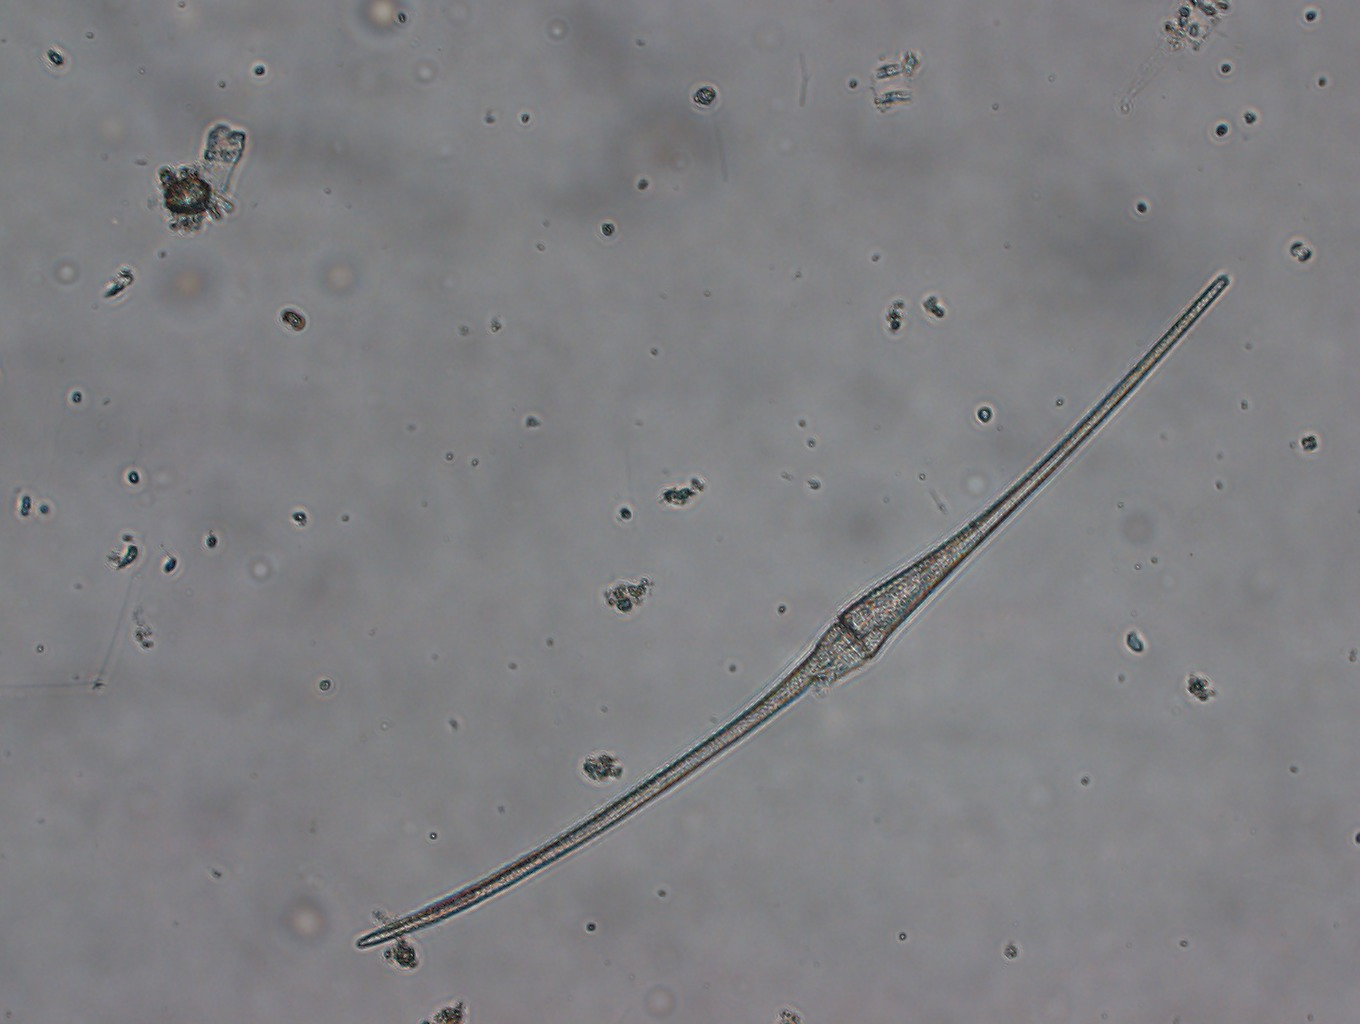ceratium fusus: (337, 265, 1233, 959)
